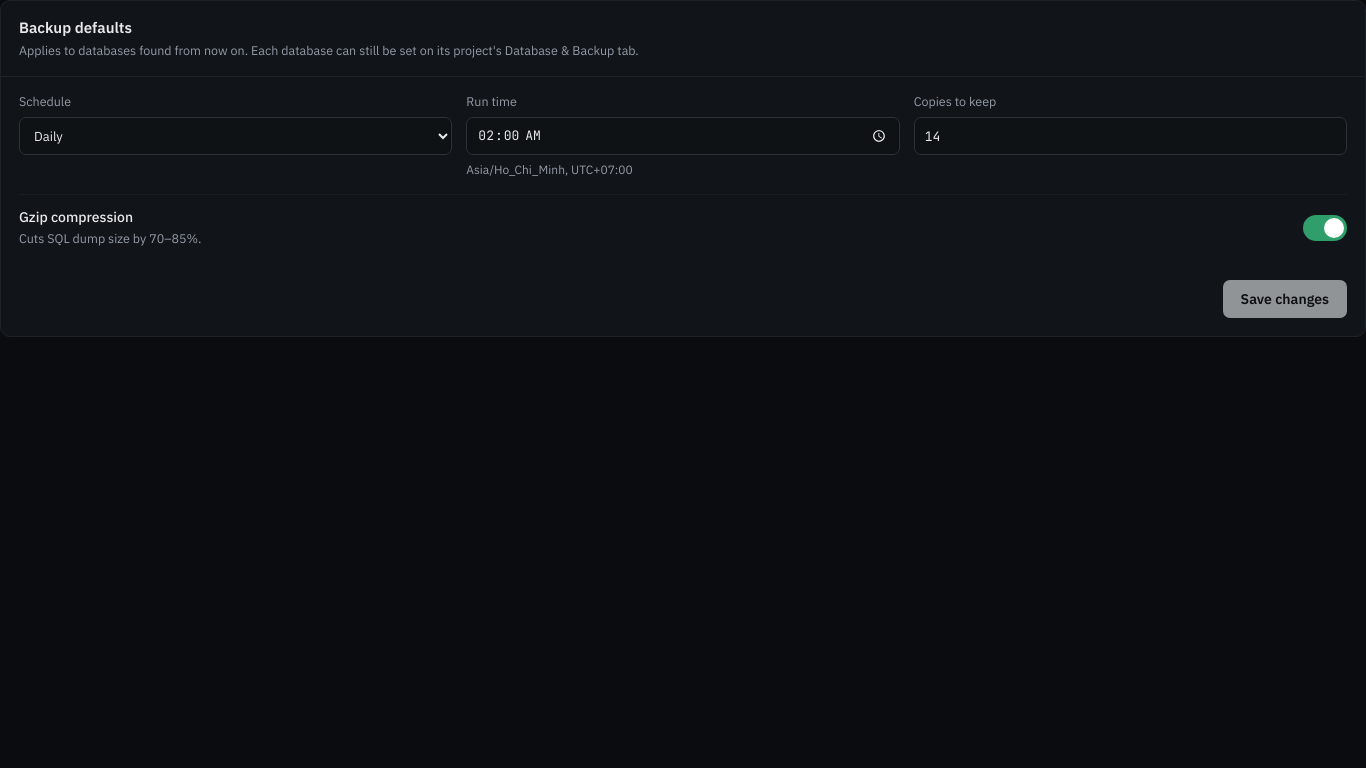
Test case: Backup defaults card › a failed save that is not a field error toasts the words
Select "Off" in the dropdown labelled "Schedule" at (236, 136), box [19, 117, 452, 155]
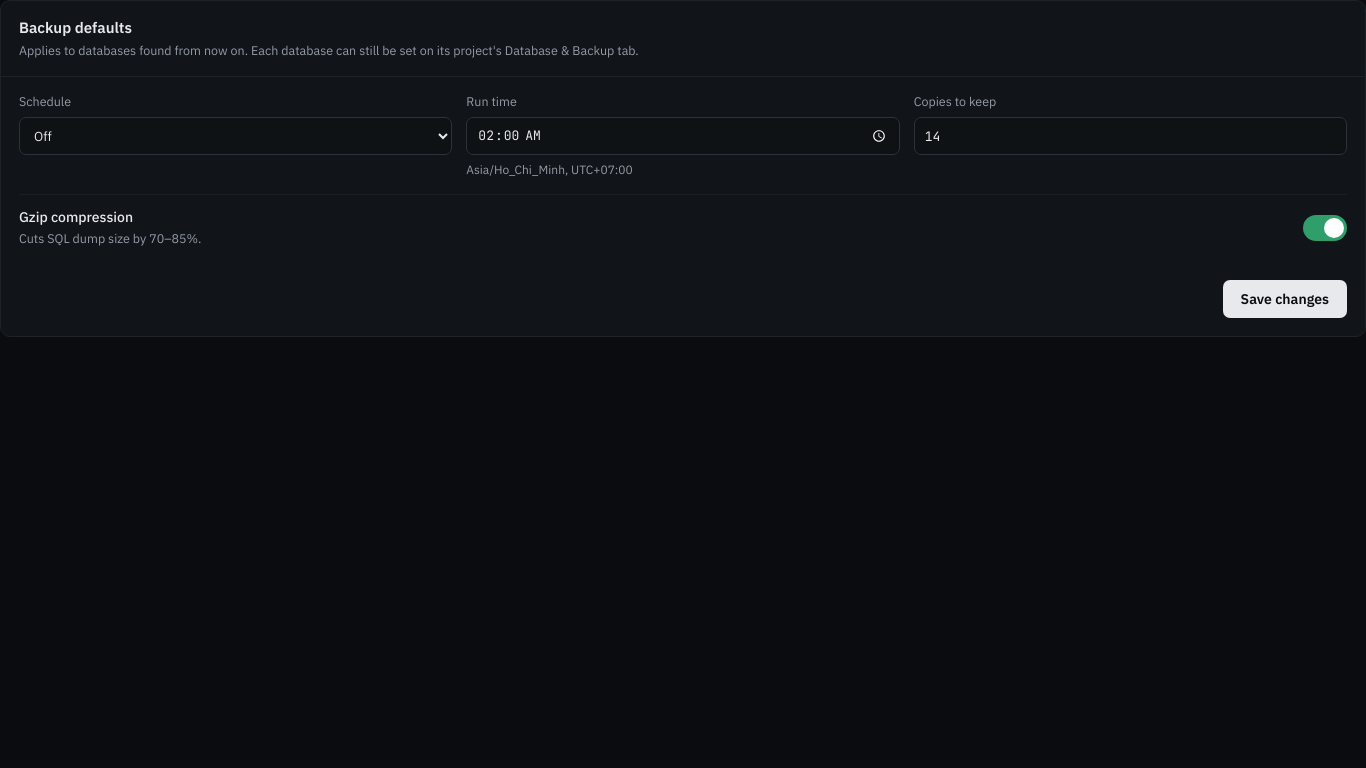
Click the button "Save changes" at (1285, 299), box [1223, 280, 1347, 318]
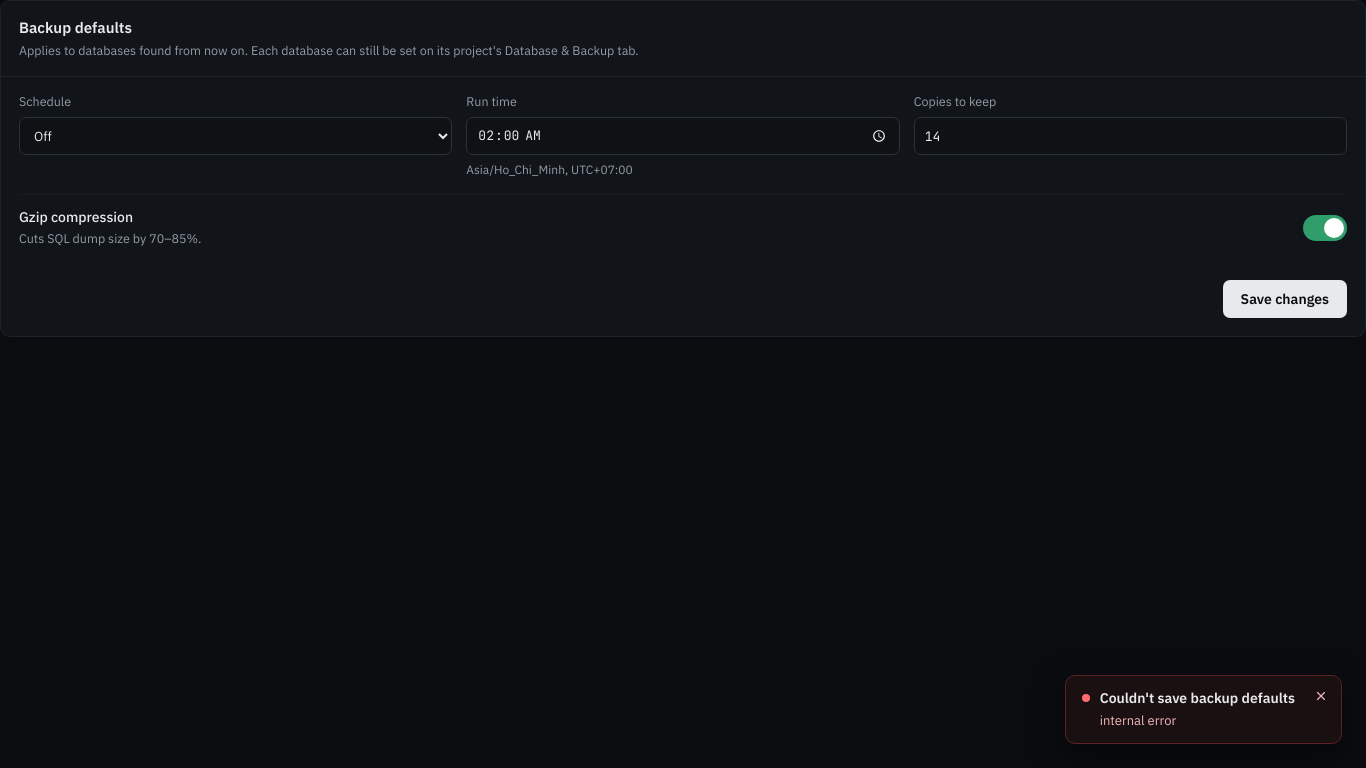
Now the button "Save changes" is enabled, box [1223, 280, 1347, 318]
Now the text "Couldn't save backup defaults" is shown, box [1100, 688, 1295, 708]
Now the text "internal error" is shown, box [1100, 712, 1176, 729]
